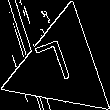L_S: (39, 38, 82, 95)
